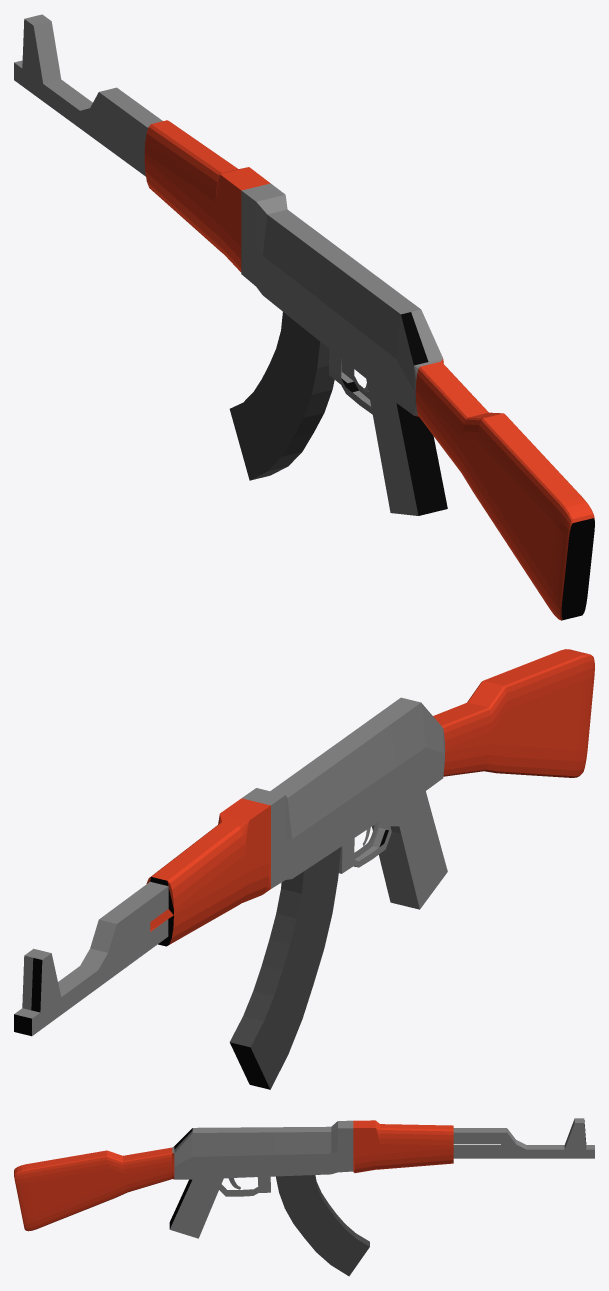
The picture shows the model from 3 angles, top to bottom: view 1: azimuth 30°, elevation 25°; view 2: azimuth 150°, elevation 25°; view 3: azimuth 270°, elevation 25°; orthographic projection. The views are drawn at different scales.
Visible parts, largest first — view 1: ak-47; view 2: ak-47; view 3: ak-47.
Boxes of the visible parts, left/top/right/bottom form: ak-47: left=14, top=14, right=594, bottom=620; ak-47: left=14, top=649, right=594, bottom=1089; ak-47: left=14, top=1118, right=594, bottom=1276.
Bounding box in the file's own units: 1.51 × 14.53 × 49.92.
